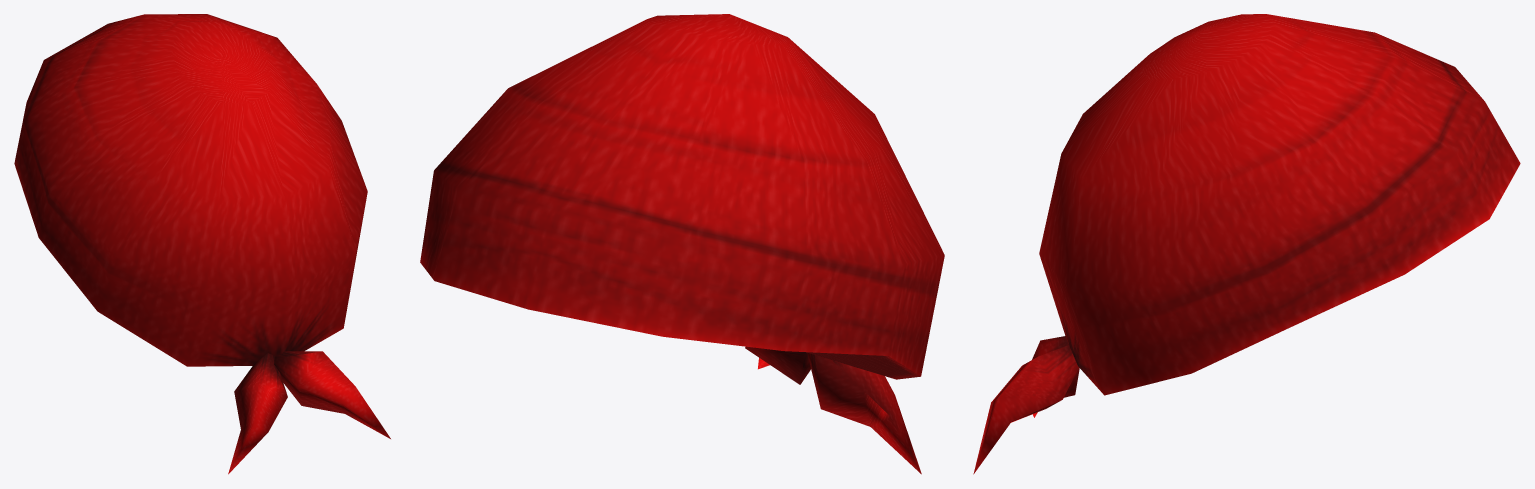
File: hat04.FBX
3 views of the same model, side by side, from view 1: azimuth 30°, elevation 25°; view 2: azimuth 150°, elevation 25°; view 3: azimuth 270°, elevation 25° (orthographic). The views are drawn at different scales.
Visible parts, largest first — view 1: hat04; view 2: hat04; view 3: hat04.
Boxes of the visible parts, <box> form: hat04: <box>14,14,390,474</box>; hat04: <box>420,14,944,474</box>; hat04: <box>973,14,1520,474</box>.
Bounding box in the file's own units: 0.2499 × 0.3323 × 0.2901.
